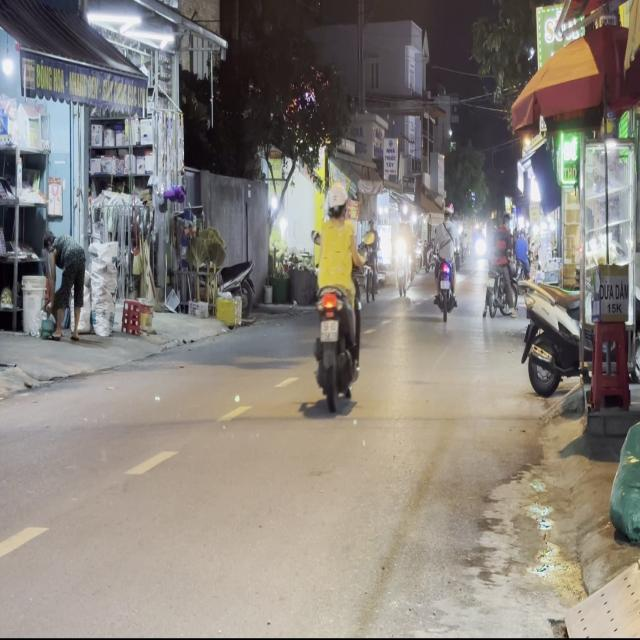helmet: (325, 181, 347, 217)
licenseplate: (310, 180, 363, 410)
nohelmet: (320, 320, 337, 340)
